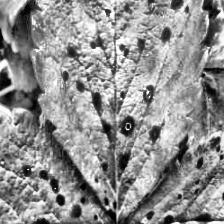Leaf Spot: (29, 0, 211, 224), (0, 107, 135, 224), (116, 130, 224, 224), (186, 66, 224, 151)
